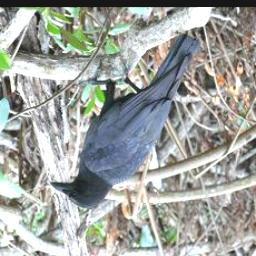Crow: (48, 29, 201, 210)
